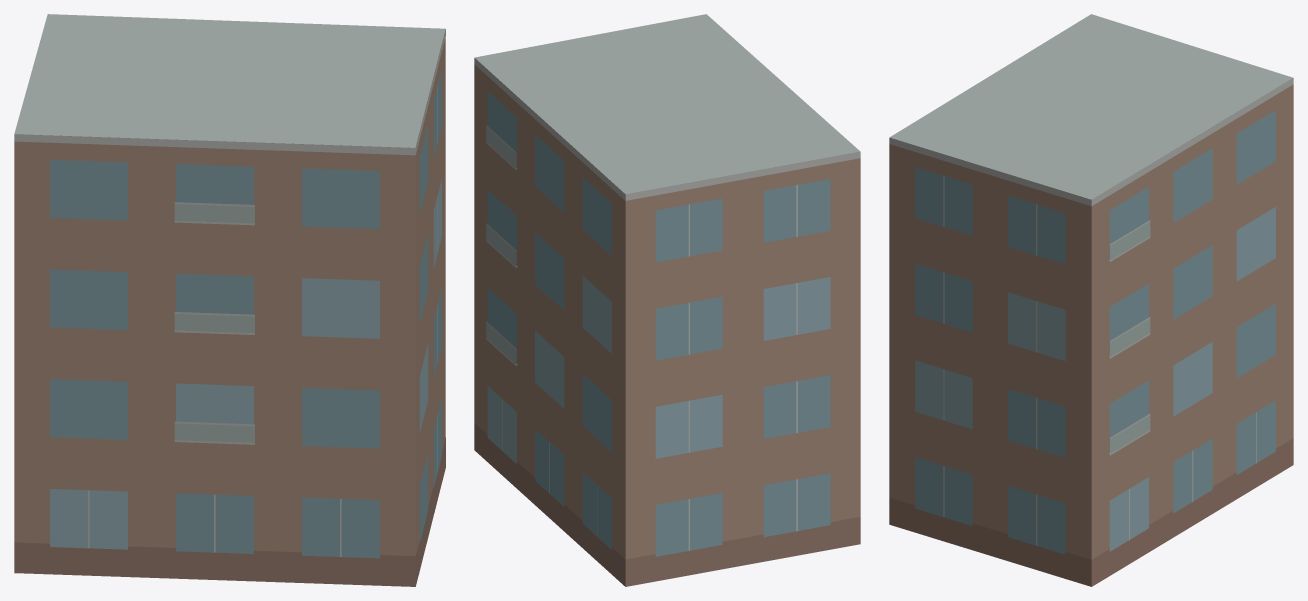
The model's file is survey-upis-32988253.glb.
3 renders of one model, left to right at view 1: azimuth 30°, elevation 25°; view 2: azimuth 150°, elevation 25°; view 3: azimuth 270°, elevation 25°, orthographic. The views are drawn at different scales.
Visible parts, largest first — view 1: survey-upis-32988253.tmp; view 2: survey-upis-32988253.tmp; view 3: survey-upis-32988253.tmp.
Part boxes in pixels (x1,y1,x2,y2): survey-upis-32988253.tmp: [14, 14, 445, 586]; survey-upis-32988253.tmp: [474, 14, 860, 586]; survey-upis-32988253.tmp: [889, 14, 1293, 586].
Size of the model in its own units: 14.93 by 14.5 by 13.73.
